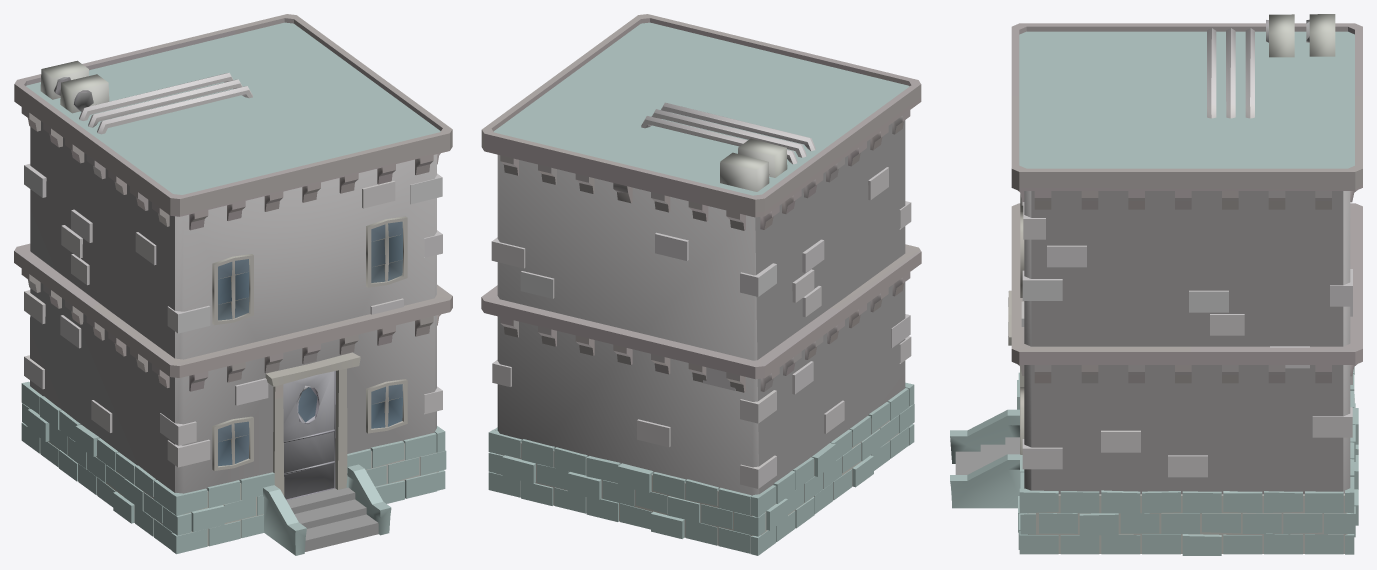
The model's file is motel-stairs.glb.
The picture shows the model from 3 angles, left to right: view 1: azimuth 30°, elevation 25°; view 2: azimuth 150°, elevation 25°; view 3: azimuth 270°, elevation 25°; orthographic projection. The views are drawn at different scales.
Parts seen in each view (by area): view 1: 2Story_Stairs; view 2: 2Story_Stairs; view 3: 2Story_Stairs.
Boxes of the visible parts, bbox=[...] form: 2Story_Stairs: bbox=[14, 14, 452, 555]; 2Story_Stairs: bbox=[481, 14, 921, 555]; 2Story_Stairs: bbox=[950, 14, 1362, 555].
Size of the model in its own units: 0.8524 by 1.08 by 1.
1 material, 1 textured.
